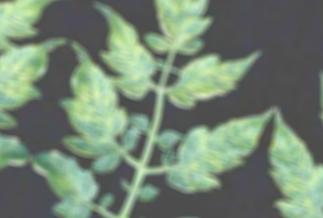Tomato leaf yellow virus: (36, 42, 157, 177), (160, 82, 275, 217), (67, 0, 175, 105), (164, 23, 263, 129), (20, 147, 113, 218), (134, 0, 232, 65), (135, 203, 223, 218)
